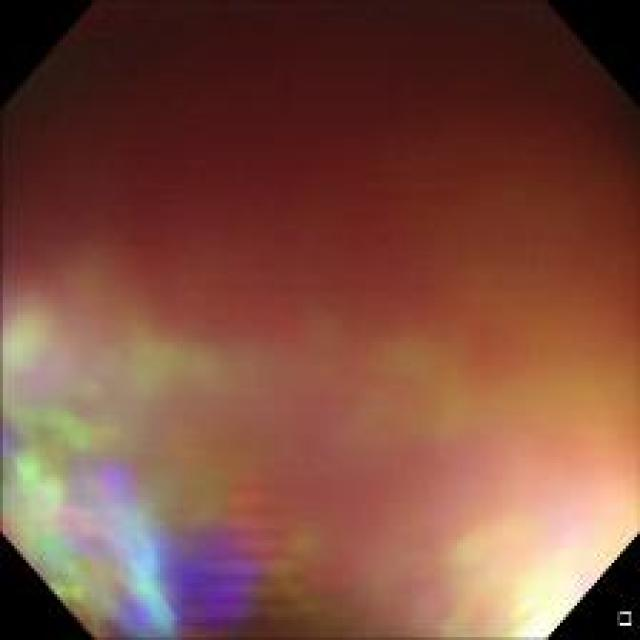color misalignment: (6, 305, 631, 631)
